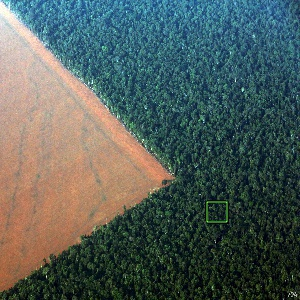square: (204, 199, 229, 225)
